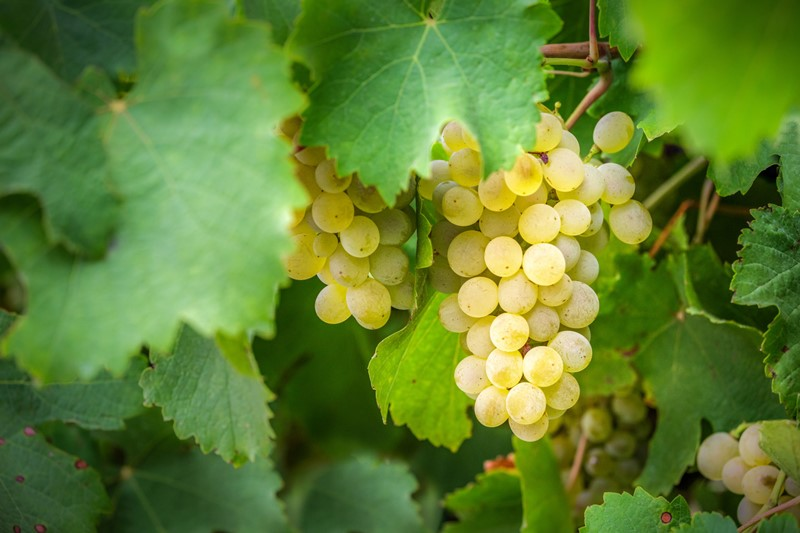Green grapes: (439, 96, 633, 447), (248, 93, 457, 331)
